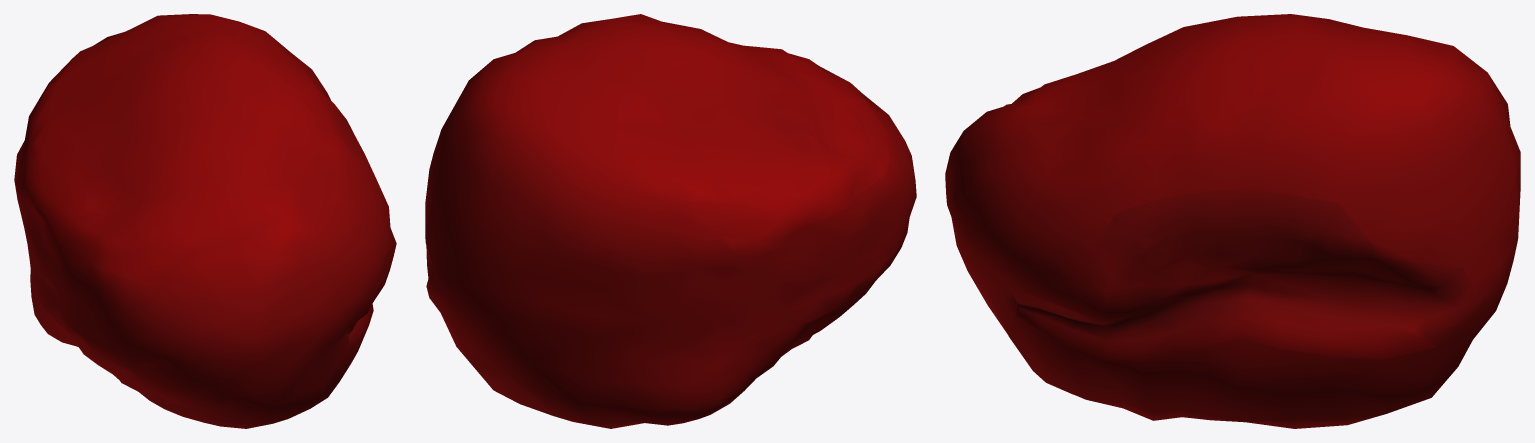
Rendered from geology-rocks-rocklarge_v3.fbx.
3 views of the same model, side by side, from view 1: azimuth 30°, elevation 25°; view 2: azimuth 150°, elevation 25°; view 3: azimuth 270°, elevation 25° (orthographic). The views are drawn at different scales.
Parts seen in each view (by area): view 1: RockLarge_v3; view 2: RockLarge_v3; view 3: RockLarge_v3.
Part boxes in pixels (x1=…): RockLarge_v3: x1=14, y1=14, x2=396, y2=428; RockLarge_v3: x1=425, y1=14, x2=916, y2=428; RockLarge_v3: x1=945, y1=14, x2=1520, y2=428.
Bounding box in the file's own units: 7.56 × 7.5 × 10.21.
